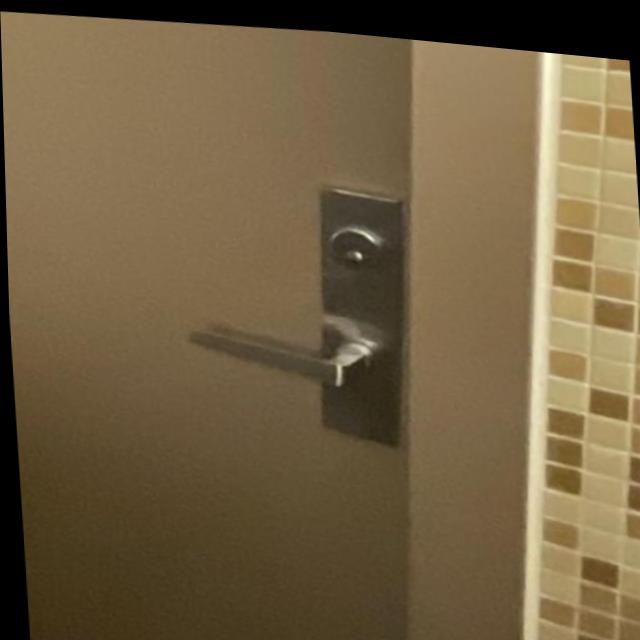door_handle: (171, 289, 422, 411)
